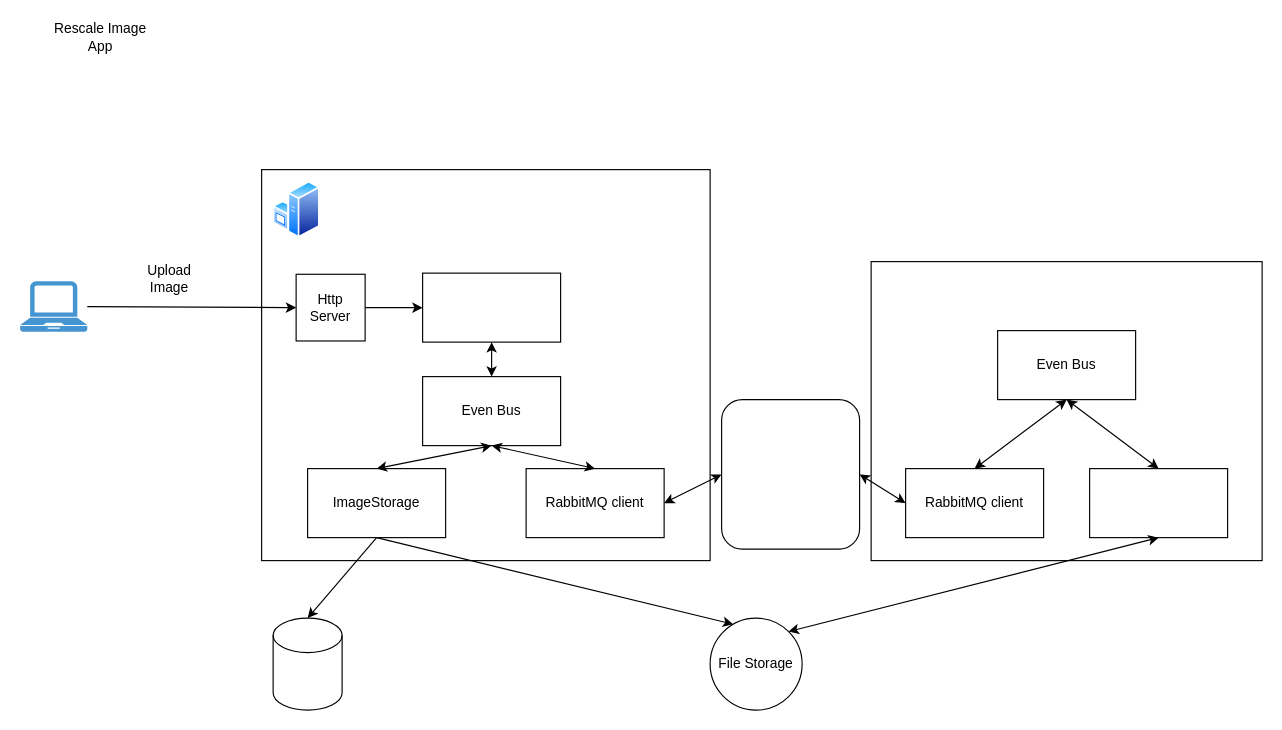
The diagram is 1282 pixels wide and 730 high, and some of its shapes have lost their labels. The shapes that lost their labels are listed below. From the top down, each one's centre as x and y in pixels, then its label:
At (491,307): "Router Handler".
At (790,473): "RabbitMQ".
At (1158,502): "ImageScalingWorker".
At (307,663): "DB".
